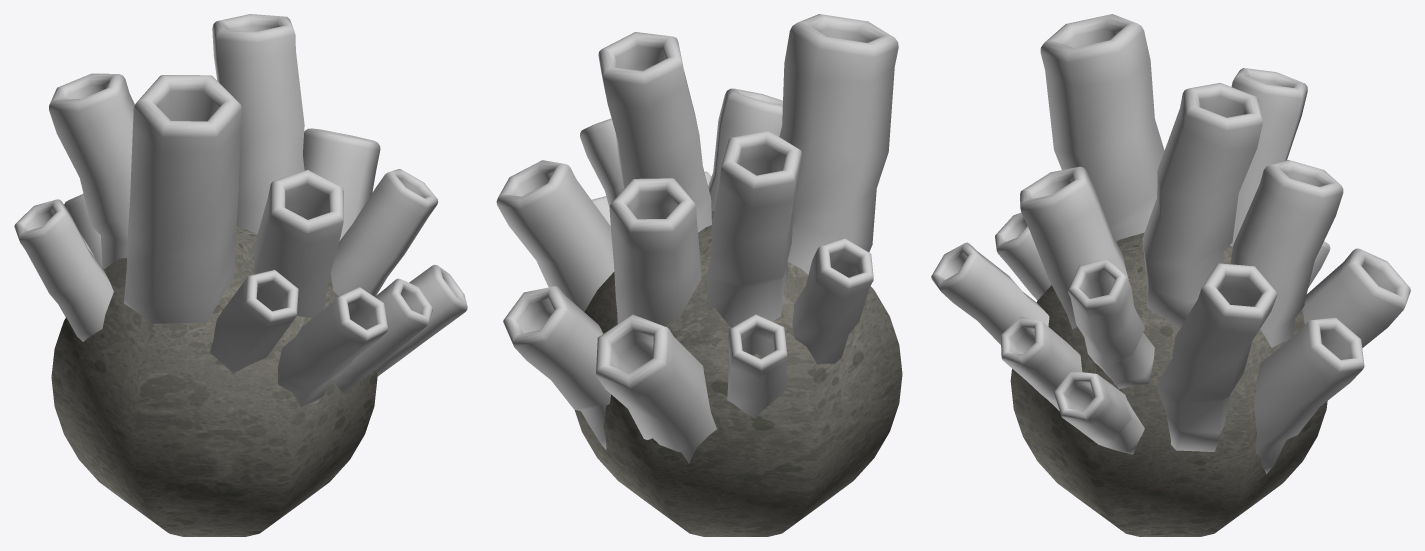
File: coral2.fbx
The picture shows the model from 3 angles, left to right: view 1: azimuth 30°, elevation 25°; view 2: azimuth 150°, elevation 25°; view 3: azimuth 270°, elevation 25°; orthographic projection. The views are drawn at different scales.
Visible parts, largest first — view 1: coral, base; view 2: coral, base; view 3: coral, base.
Part boxes in pixels (bbox=[...]): coral: bbox=[14, 14, 467, 407]; base: bbox=[51, 226, 377, 536]; coral: bbox=[496, 14, 898, 463]; base: bbox=[574, 211, 902, 536]; coral: bbox=[931, 14, 1410, 474]; base: bbox=[1010, 232, 1327, 536].
Size of the model in its own units: 263 by 325 by 301.
